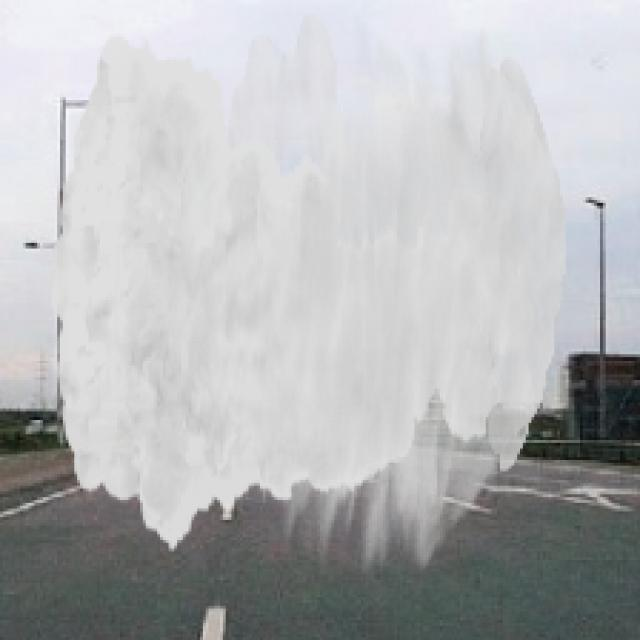Smoke: (48, 14, 566, 574)
